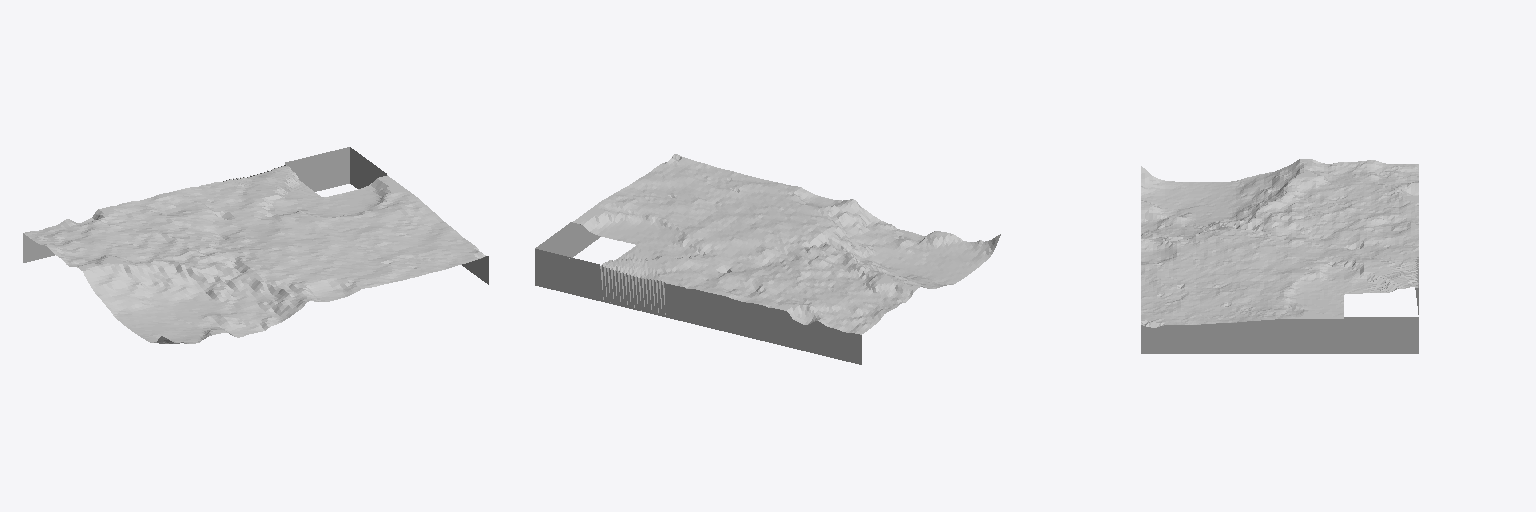
File: gale_crater_RUC.obj
The picture shows the model from 3 angles: view 1: azimuth 30°, elevation 25°; view 2: azimuth 150°, elevation 25°; view 3: azimuth 270°, elevation 25°; orthographic projection.
Parts seen in each view (by area): view 1: mesh_RUC; view 2: mesh_RUC; view 3: mesh_RUC.
Boxes of the visible parts, x1=… form: mesh_RUC: x1=23, y1=147, x2=488, y2=343; mesh_RUC: x1=535, y1=154, x2=1000, y2=364; mesh_RUC: x1=1141, y1=159, x2=1418, y2=353.
Bounding box in the file's own units: 548 × 58.98 × 404.